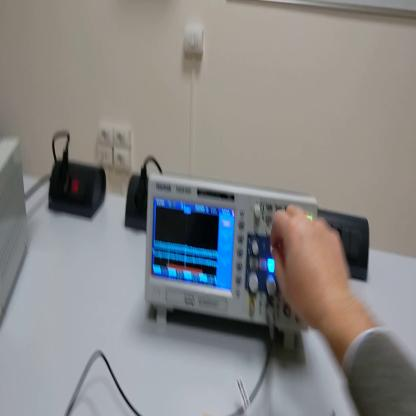hand: (271, 204, 353, 330)
oscilloscope: (146, 179, 319, 357)
power supply: (2, 140, 29, 330)
socket: (47, 160, 108, 219), (126, 172, 147, 229)
